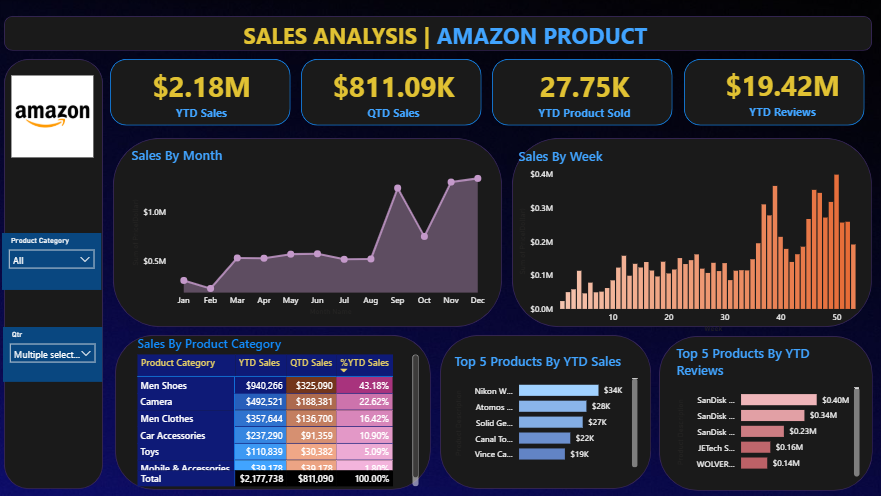

What the dashboard file says about the page in this screenshot:
{"tool":"powerbi","page":{"name":"Page 1","canvas":[1280,720],"ordinal":0},"visuals":[{"type":"card","fields":{"Values":["Amazon_Data.YTD Sales"]},"box":[165.6,86.4,260.6,95],"z":0,"group":"g1"},{"type":"shape","box":[439.5,84.3,260,95.7],"z":0},{"type":"card","fields":{"Values":["Amazon_Data.QTD Sales"]},"box":[442.1,86.4,260.6,95],"z":1000,"group":"g1"},{"type":"shape","box":[11.4,22.9,1250,50],"z":1000},{"type":"card","fields":{"Values":["Amazon_Data.YTD Product Sold"]},"box":[717.1,86.4,260.6,95],"z":2000,"group":"g1"},{"type":"textbox","box":[351.4,22.9,710,61.4],"z":2000},{"type":"card","fields":{"Values":["Amazon_Data.YTD Reviews"]},"box":[1002.9,85,260.6,95],"z":3000,"group":"g1"},{"type":"shape","box":[11.5,85,142.6,619.2],"z":3000},{"type":"shape","box":[164.3,84.3,260,95.7],"z":4000},{"type":"shape","box":[714.8,84.3,260,95.7],"z":5000},{"type":"shape","box":[990,84.3,260,95.7],"z":6000},{"type":"group","id":"g1","title":"Group 1","box":[165.6,85,1097.3,96.5],"z":7000},{"type":"shape","box":[168.5,198.7,560.2,272.2],"z":8000},{"type":"areaChart","title":"Sales By Month","fields":{"Category":["Date Table.Month Name"],"Y":["Sum(Amazon_Data.Price(Dollar))"]},"box":[190.1,210.2,524.2,249.1],"z":9000},{"type":"shape","box":[743,198.7,518.4,272.2],"z":10000},{"type":"columnChart","title":"Sales By Week","fields":{"Category":["Date Table.Week"],"Y":["Sum(Amazon_Data.Price(Dollar))"]},"box":[747.4,211.7,515.5,272.2],"z":11000},{"type":"shape","box":[171.2,481.8,454.5,222.7],"z":12000},{"type":"pivotTable","title":"Sales By Product Category","fields":{"Rows":["Amazon_Data.Product Category"],"Values":["Amazon_Data.YTD Sales1","Amazon_Data.QTD Sales","Amazon_Data.YTD Sales"]},"box":[198.5,481.8,415.2,222.7],"z":13000},{"type":"shape","box":[640,482.1,304,221.7],"z":14000},{"type":"shape","box":[954.5,483.3,307.6,222.7],"z":15000},{"type":"clusteredBarChart","title":"Top 5 Products By YTD Sales","fields":{"Y":["Amazon_Data.YTD Sales"],"Category":["Amazon_Data.Product Description"]},"box":[655.2,506.9,273.6,171.4],"z":16000},{"type":"clusteredBarChart","title":"Top 5 Products By YTD Reviews","fields":{"Category":["Amazon_Data.Product Description"],"Y":["Amazon_Data.YTD Reviews"]},"box":[974.9,495.4,273.6,195.8],"z":17000},{"type":"slicer","fields":{"Values":["Amazon_Data.Product Category"]},"box":[8.6,335.5,142.6,82.1],"z":18000},{"type":"slicer","fields":{"Values":["Date Table.Qtr"]},"box":[10.1,470.9,142.6,79.2],"z":19000},{"type":"image","box":[7.2,103.7,148.3,128.2],"z":20000}]}

Visuals, with their boxes in screenshot pixels (x1, y1, x2, y2), scaled from the page's 1280x720 canvas onto the 881x496 screenshot:
card - Amazon_Data.YTD Sales: [left=114, top=60, right=293, bottom=125]
shape: [left=302, top=58, right=481, bottom=124]
card - Amazon_Data.QTD Sales: [left=304, top=60, right=484, bottom=125]
shape: [left=8, top=16, right=868, bottom=50]
card - Amazon_Data.YTD Product Sold: [left=494, top=60, right=673, bottom=125]
textbox: [left=242, top=16, right=731, bottom=58]
card - Amazon_Data.YTD Reviews: [left=690, top=59, right=870, bottom=124]
shape: [left=8, top=59, right=106, bottom=485]
shape: [left=113, top=58, right=292, bottom=124]
shape: [left=492, top=58, right=671, bottom=124]
shape: [left=681, top=58, right=860, bottom=124]
"Group 1" group: [left=114, top=59, right=869, bottom=125]
shape: [left=116, top=137, right=502, bottom=324]
"Sales By Month" areaChart: [left=131, top=145, right=492, bottom=316]
shape: [left=511, top=137, right=868, bottom=324]
"Sales By Week" columnChart: [left=514, top=146, right=869, bottom=333]
shape: [left=118, top=332, right=431, bottom=485]
"Sales By Product Category" pivotTable: [left=137, top=332, right=422, bottom=485]
shape: [left=440, top=332, right=650, bottom=485]
shape: [left=657, top=333, right=869, bottom=486]
"Top 5 Products By YTD Sales" clusteredBarChart: [left=451, top=349, right=639, bottom=467]
"Top 5 Products By YTD Reviews" clusteredBarChart: [left=671, top=341, right=859, bottom=476]
slicer - Amazon_Data.Product Category: [left=6, top=231, right=104, bottom=288]
slicer - Date Table.Qtr: [left=7, top=324, right=105, bottom=379]
image: [left=5, top=71, right=107, bottom=160]
